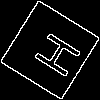H: (24, 25, 83, 80)
